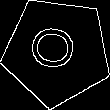O_E: (29, 27, 85, 76)
